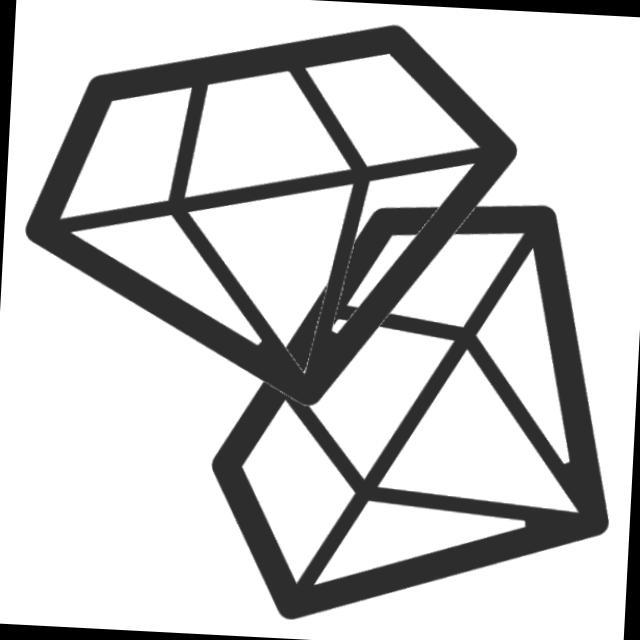diamond: (7, 1, 537, 426), (191, 174, 638, 640)
